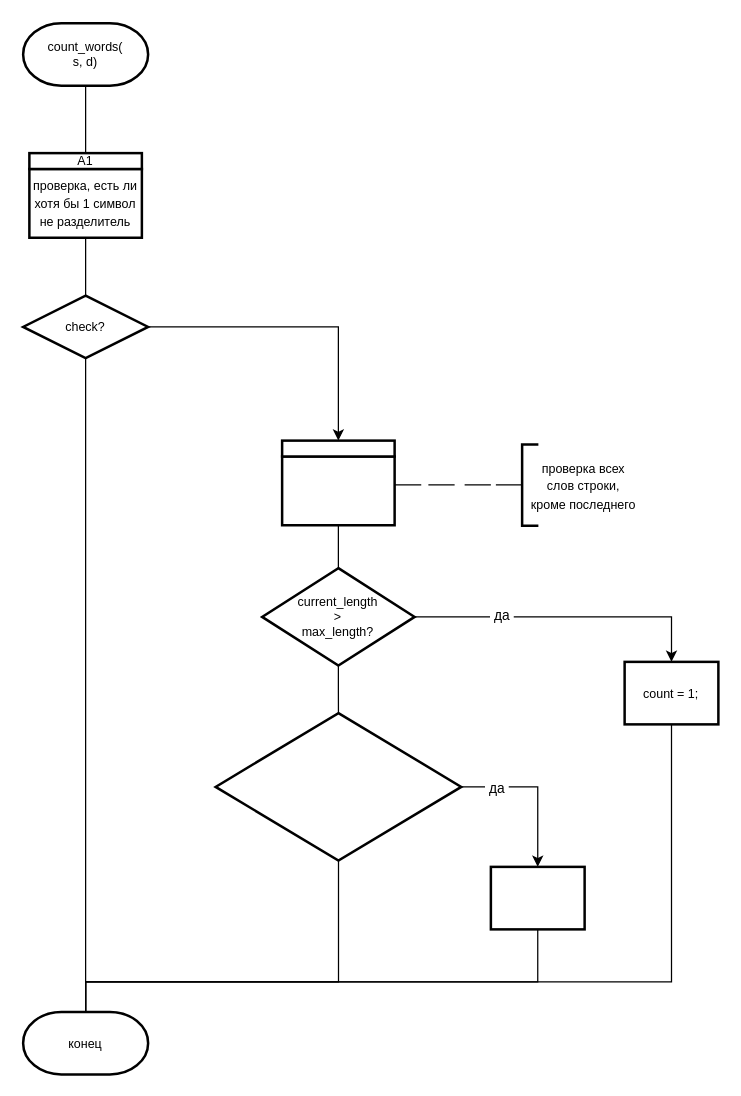
Some shapes in this 741 by 1096 pixel diagram are drawn without their labels. The shapes that lost their labels are listed below. From the top down, each one's centre as x and y in pixels, then its label:
At point 337,448: "А2".
At point 337,490: "подсчёт слов".
At point 338,786: "current_length == max_length && current_length > 0?".
At point 537,897: "count++;".
